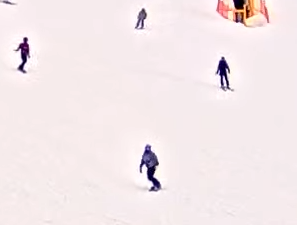skier: (211, 53, 240, 97), (131, 6, 152, 32)
snowboarder: (133, 139, 170, 198), (8, 33, 38, 78)
